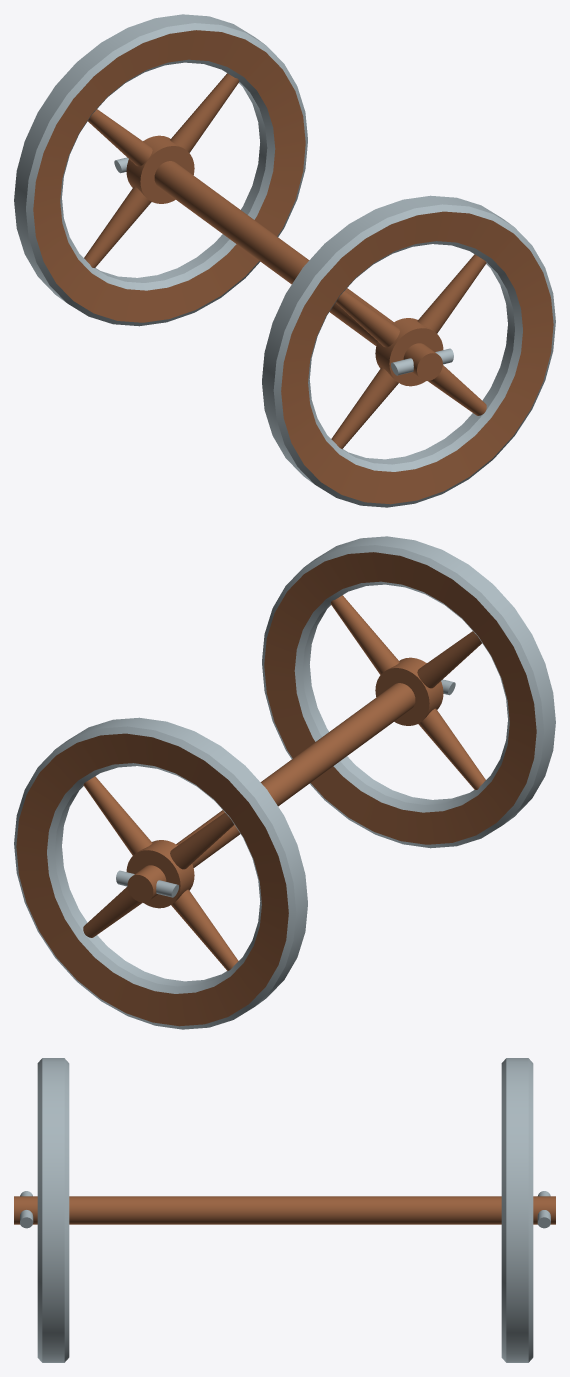
Rendered from cart_wheel.glb.
3 views of the same model, one above another, from view 1: azimuth 30°, elevation 25°; view 2: azimuth 150°, elevation 25°; view 3: azimuth 270°, elevation 25° (orthographic). The views are drawn at different scales.
Visible parts, largest first — view 1: cart_wheel; view 2: cart_wheel; view 3: cart_wheel.
Part boxes in pixels (x1,y1,x2,y2): cart_wheel: (14, 14, 555, 507); cart_wheel: (14, 536, 555, 1029); cart_wheel: (14, 1058, 555, 1362).
Bounding box in the file's own units: 2.46 × 2.46 × 4.37.
